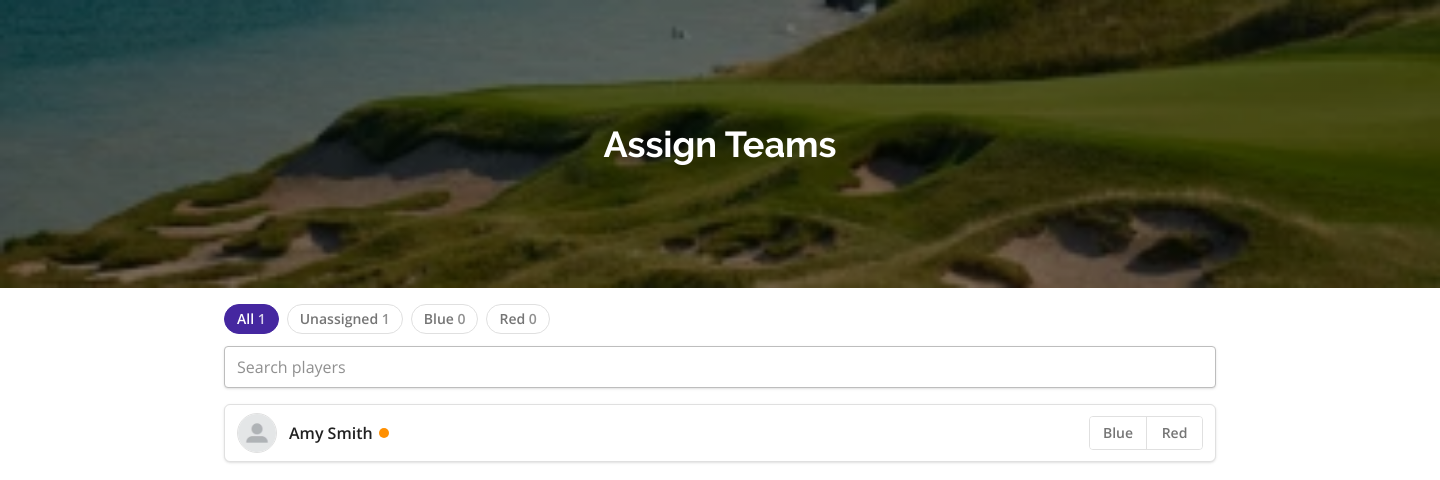
it: AdminTeamsView › agrees with the server once it has been re-read
Click the button "Blue".
click(1118, 433)  # box [1090,417,1146,449]
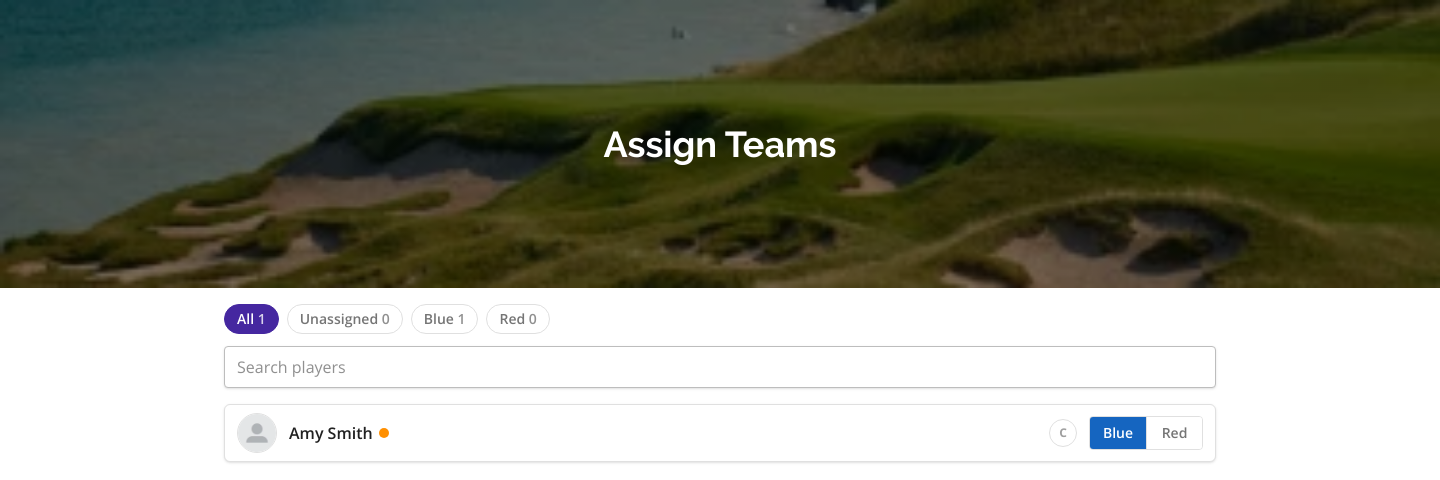
expect the button "Blue 1" is shown: met, box [411,304,478,334]
